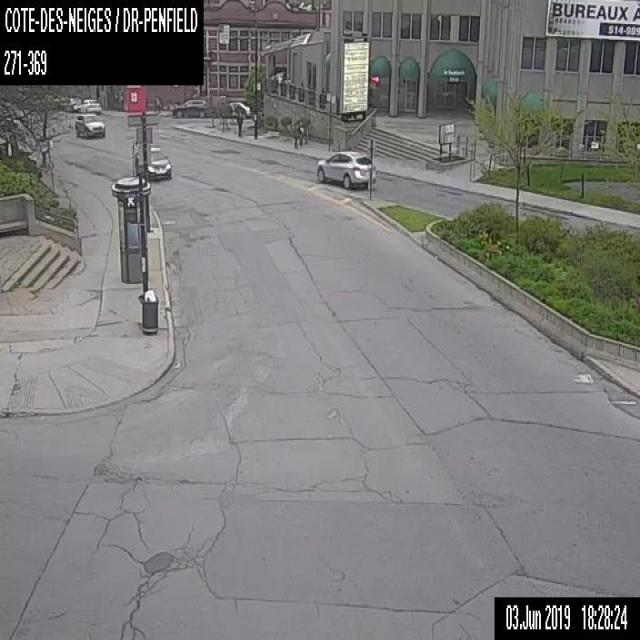pedestrian: (297, 120, 305, 146), (292, 123, 300, 148), (236, 109, 243, 135)
vehicle: (315, 148, 375, 188), (132, 143, 171, 180), (75, 109, 104, 139), (171, 96, 209, 117), (218, 101, 250, 117), (81, 98, 101, 114), (64, 96, 81, 111)
